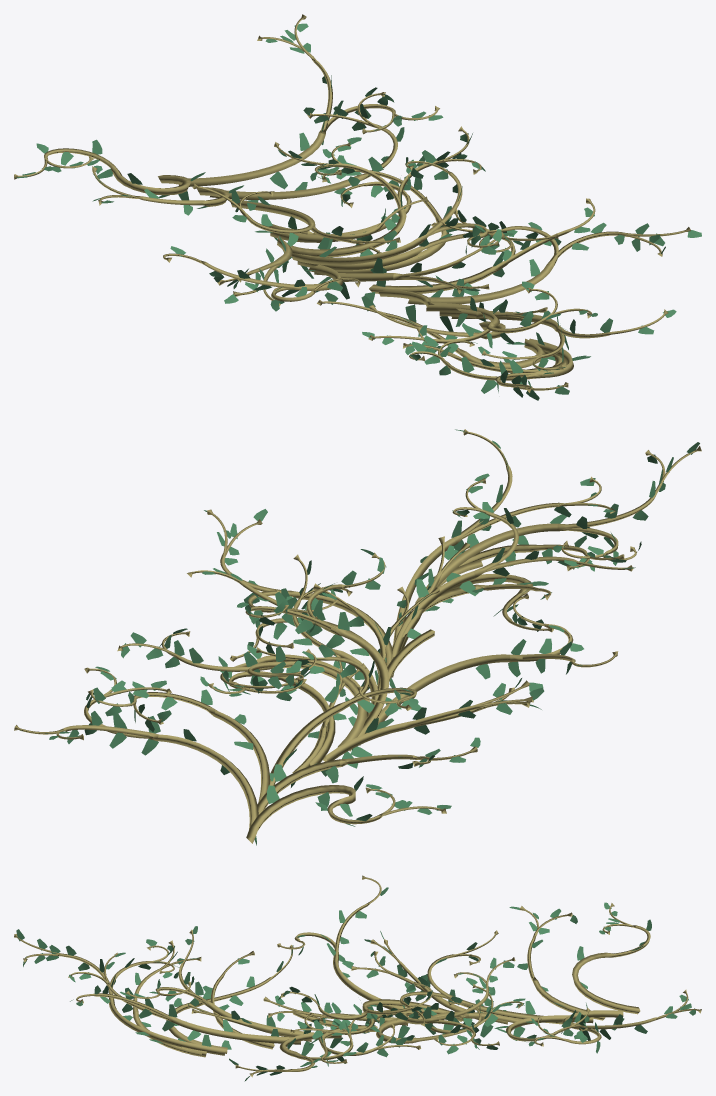
File: Vine.fbx
The picture shows the model from 3 angles, top to bottom: view 1: azimuth 30°, elevation 25°; view 2: azimuth 150°, elevation 25°; view 3: azimuth 270°, elevation 25°; orthographic projection. The views are drawn at different scales.
Parts seen in each view (by area): view 1: vineLeafyThick1Main, vineLeafyThick1Leaf; view 2: vineLeafyThick1Main, vineLeafyThick1Leaf; view 3: vineLeafyThick1Main, vineLeafyThick1Leaf.
Part boxes in pixels (bbox=[...]): vineLeafyThick1Main: bbox=[14, 14, 690, 392]; vineLeafyThick1Leaf: bbox=[15, 23, 701, 400]; vineLeafyThick1Main: bbox=[14, 429, 701, 843]; vineLeafyThick1Leaf: bbox=[20, 429, 699, 845]; vineLeafyThick1Main: bbox=[14, 875, 701, 1077]; vineLeafyThick1Leaf: bbox=[16, 887, 695, 1081].
Bounding box in the file's own units: 354 × 85.27 × 578.
